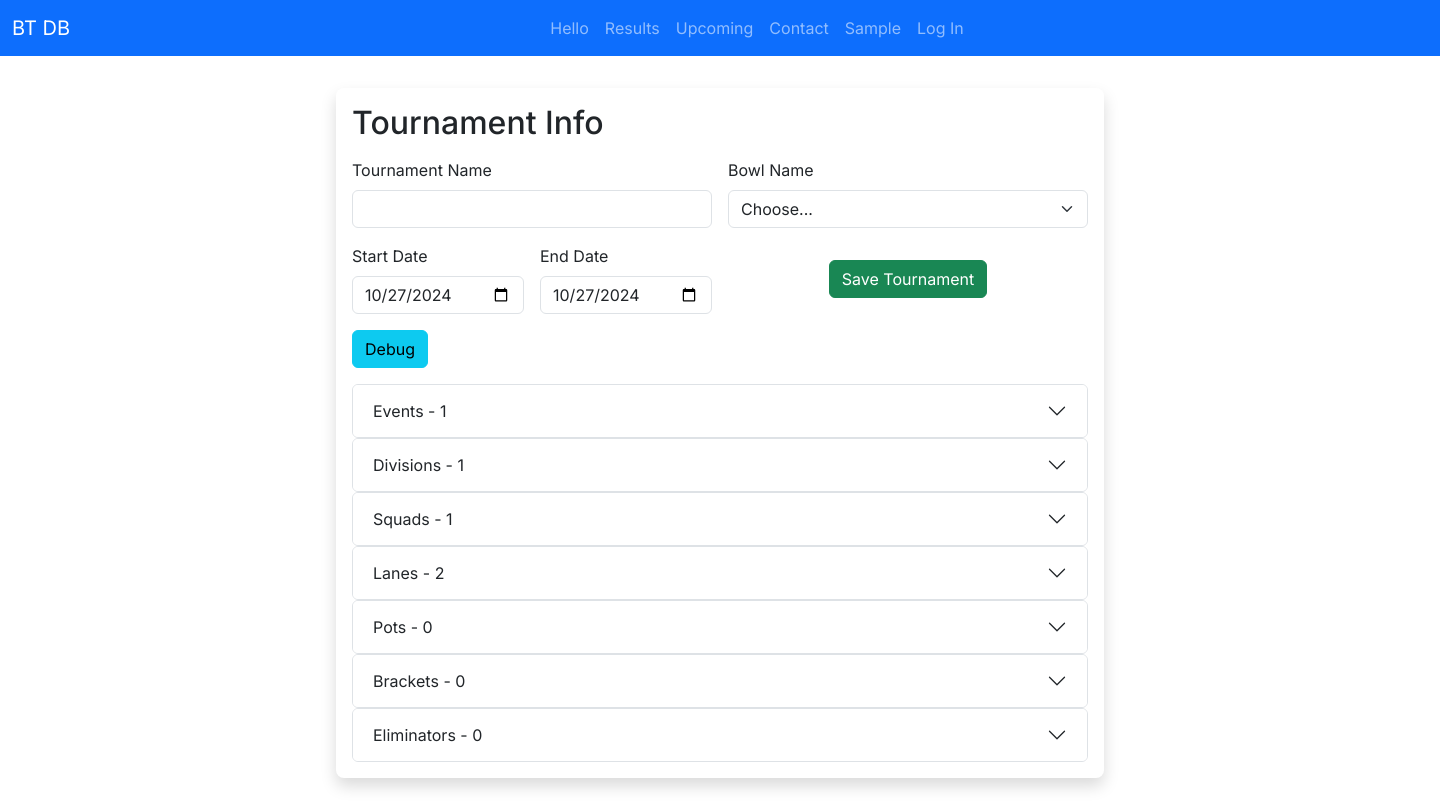
Scenario: TmntDataPage - Pots Component › click on the pots accordian › render the pots tab
The image size is (1440, 804).
Click the button "Pots - 0" at point(398, 627), box [353,601,1087,653]
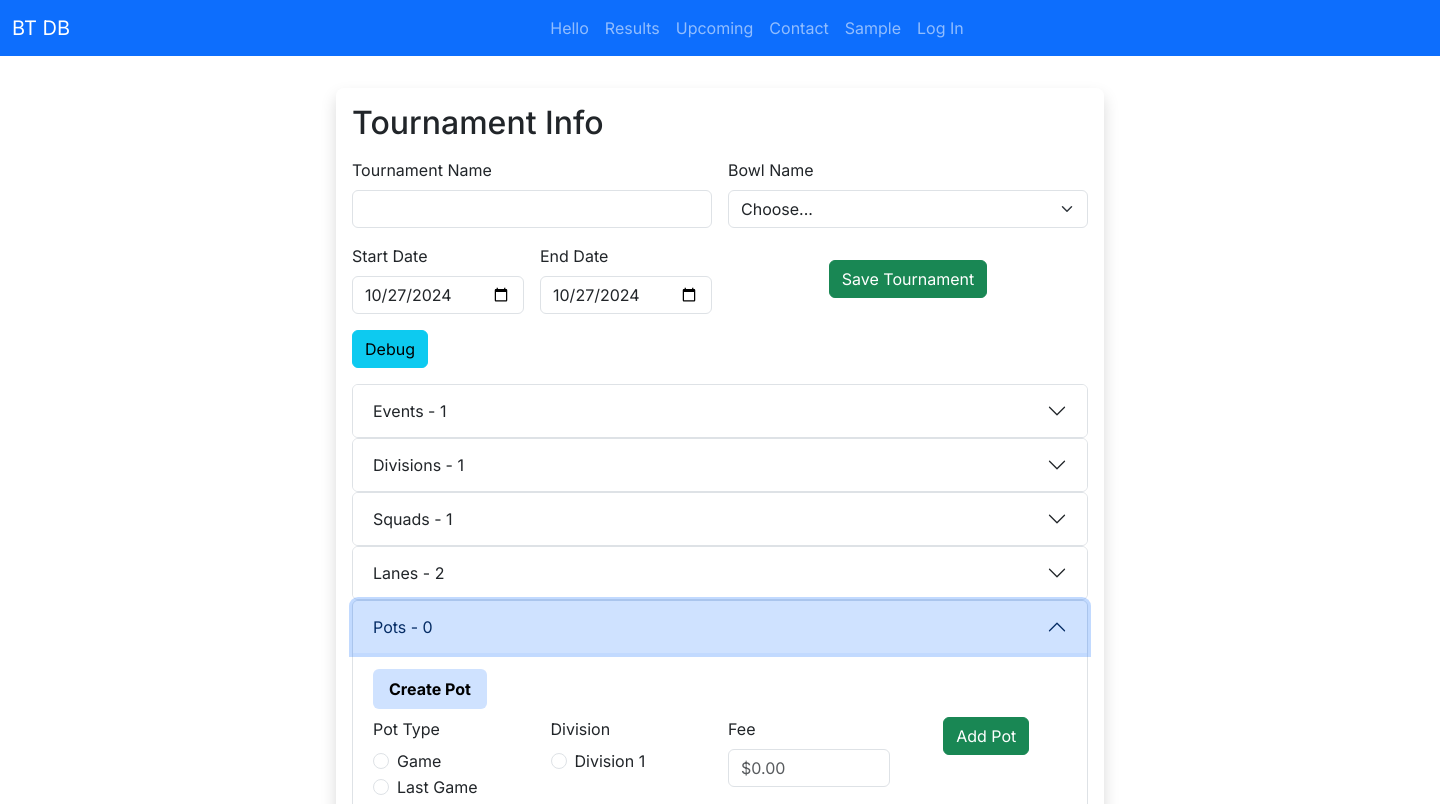
expect the tab "Create Pot" is shown: met, box [373,669,487,709]
